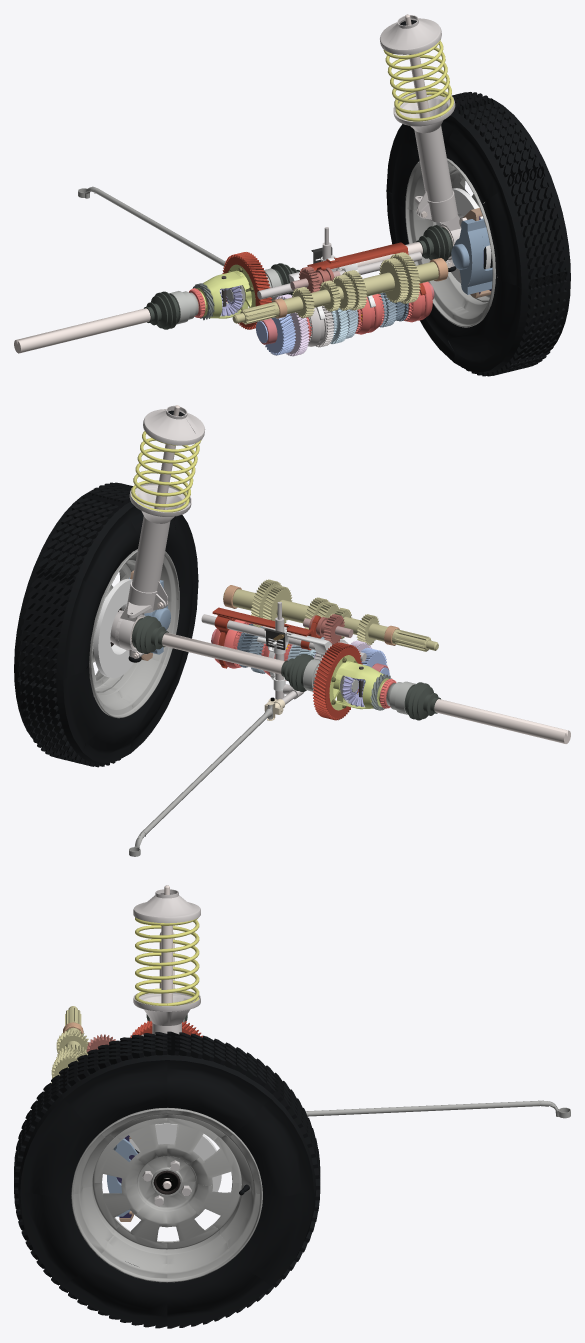
File: gearbox.glb
The picture shows the model from 3 angles, top to bottom: view 1: azimuth 30°, elevation 25°; view 2: azimuth 150°, elevation 25°; view 3: azimuth 270°, elevation 25°; orthographic projection. The views are drawn at different scales.
Parts seen in each view (by area): view 1: Object_192, Object_67, Object_200, Object_169, Object_181, Object_59, Object_8, Object_167, Object_49, Object_61, Object_165, Object_140 (+14 smaller); view 2: Object_192, Object_200, Object_67, Object_169, Object_186, Object_181, Object_59, Object_167, Object_51, Object_61, Object_165, Object_49 (+9 smaller); view 3: Object_192, Object_200, Object_181, Object_76, Object_167, Object_169, Object_67, Object_186, Object_177, Object_6.
Part boxes in pixels (x1,y1,x2,y2): Object_192: (386,92,570,376); Object_67: (232,252,448,324); Object_200: (405,158,497,327); Object_169: (393,91,455,213); Object_181: (383,39,451,113); Object_59: (14,308,150,353); Object_8: (451,219,484,294); Object_167: (380,15,441,54); Object_49: (196,264,255,318); Object_61: (222,252,272,329); Object_165: (415,190,463,266); Object_140: (307,242,426,295); Object_192: (14,482,198,767); Object_200: (89,549,179,718); Object_67: (223,579,438,651); Object_169: (129,483,191,604); Object_186: (93,578,133,678); Object_181: (131,431,201,507); Object_59: (434,699,570,743); Object_167: (143,405,205,445); Object_51: (162,632,284,674); Object_61: (312,642,362,720); Object_165: (110,581,167,658); Object_49: (329,655,388,710); Object_192: (14,1031,320,1328); Object_200: (71,1107,262,1282); Object_181: (135,917,199,1005); Object_76: (305,1100,570,1118); Object_167: (133,889,200,923); Object_169: (133,990,200,1034); Object_67: (51,1006,88,1083); Object_186: (129,1123,221,1191); Object_177: (161,885,172,1003); Object_6: (107,1138,137,1216).
Bounding box in the file's own units: 32.14 × 22.74 × 29.01.
1 material, 1 textured.
